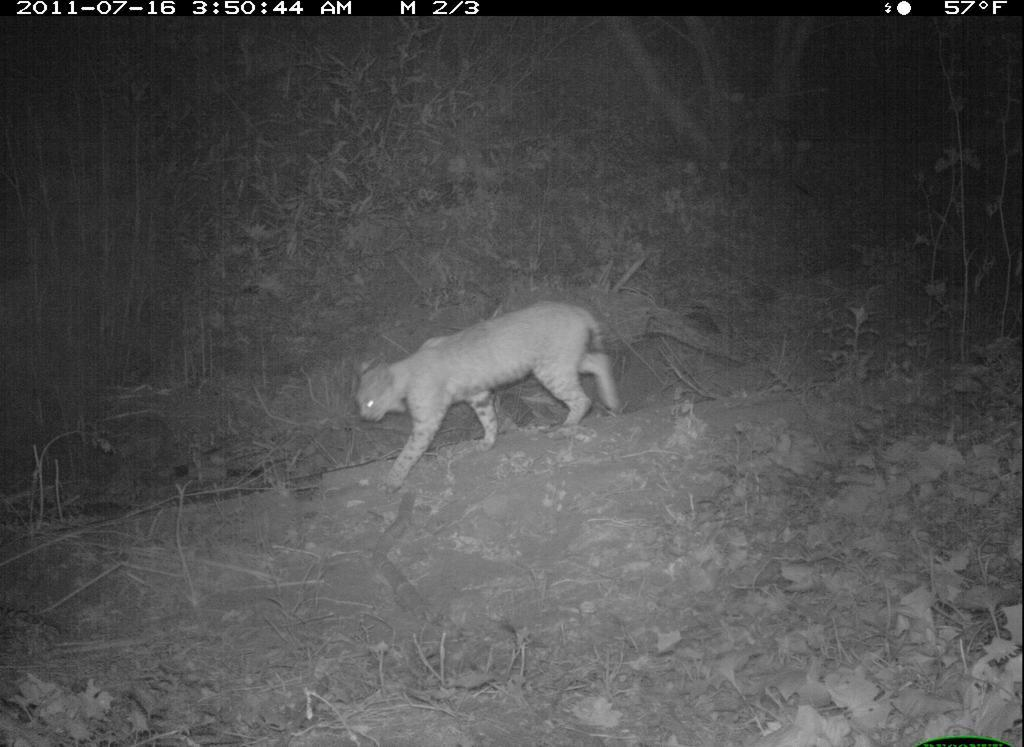bobcat: (345, 292, 629, 502)
